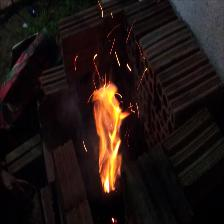fire: (80, 60, 141, 198)
